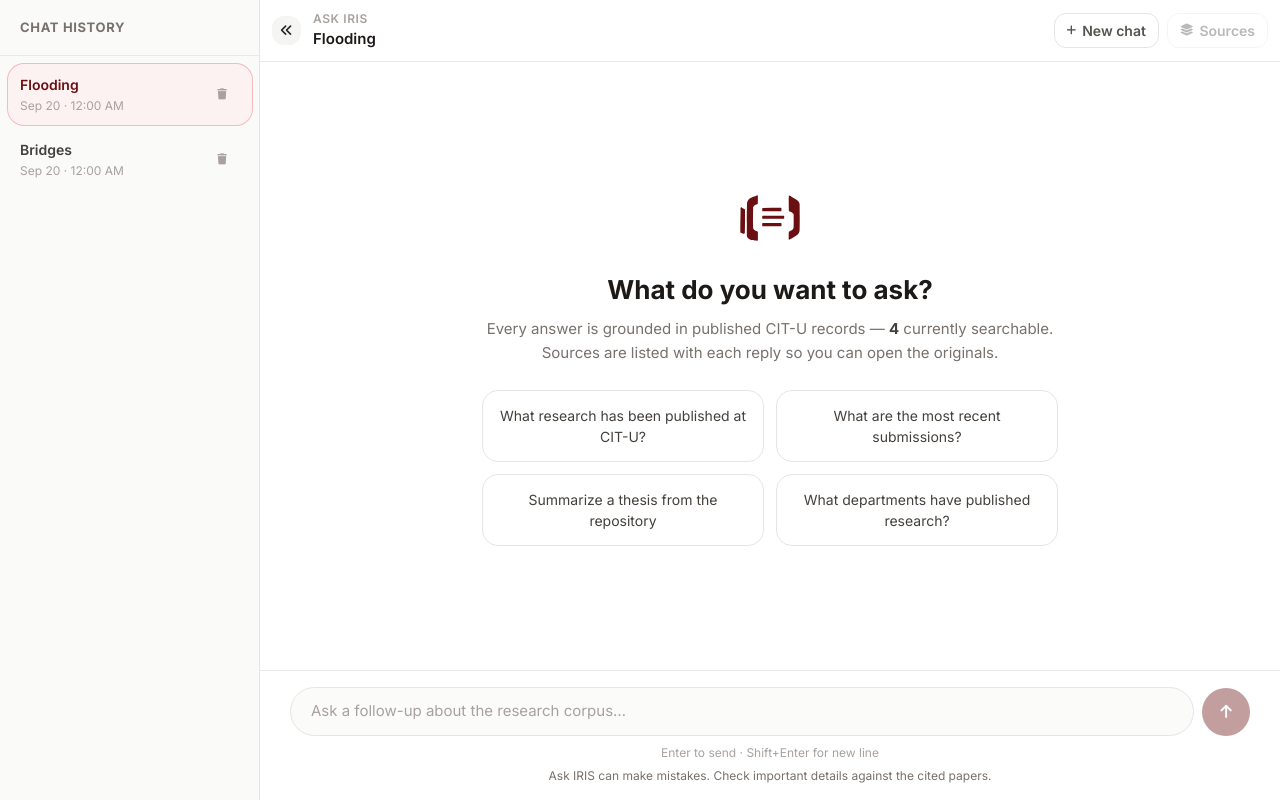
Test: each answer stays with the conversation that asked (IR-562) › shows the live line only in the conversation that is answering, and frees the others
Expected: the link "Bridges Sep 20 · 12:00 AM" is shown, [20,141,124,178]
In the text box labelled "Ask a follow-up about the research corpus…": (742, 711) [290,687,1194,736], type "What predicts flooding?"
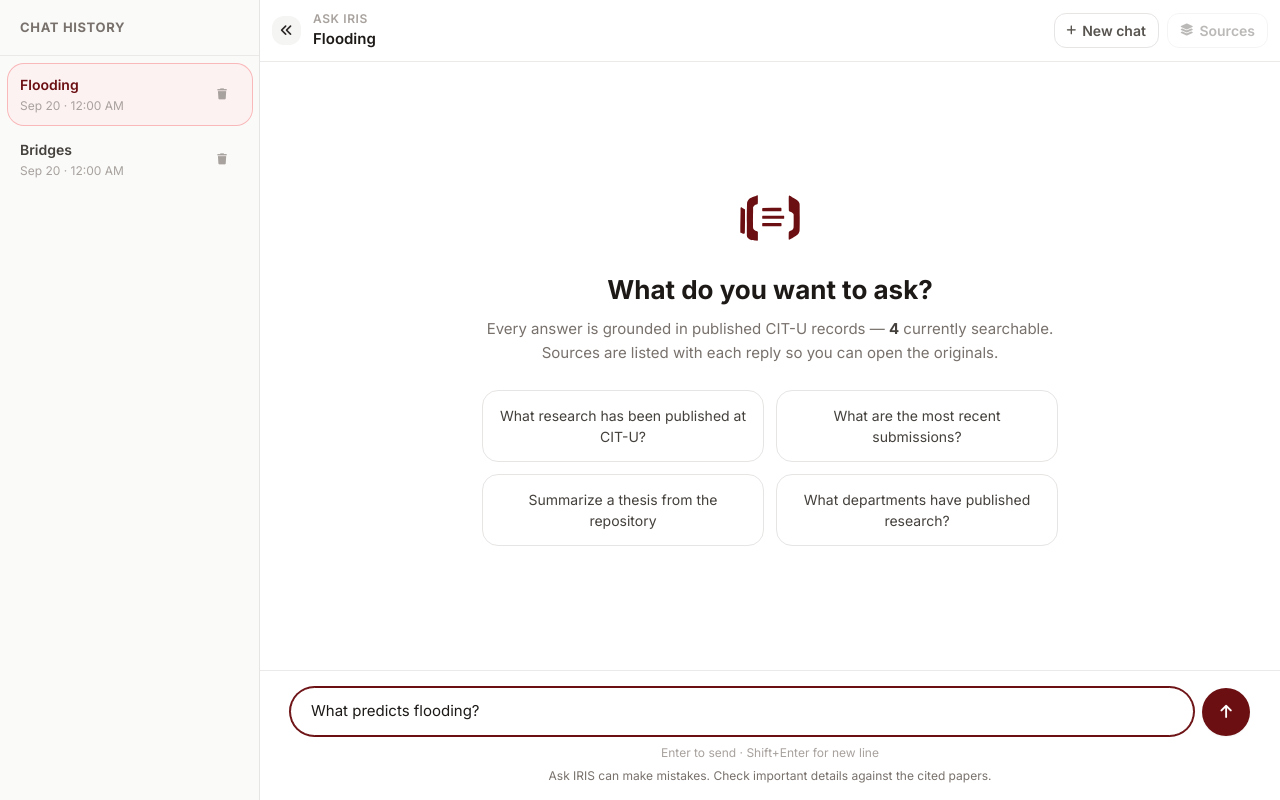
Click the button named "send message": (1226, 712) [1202,688,1250,736]
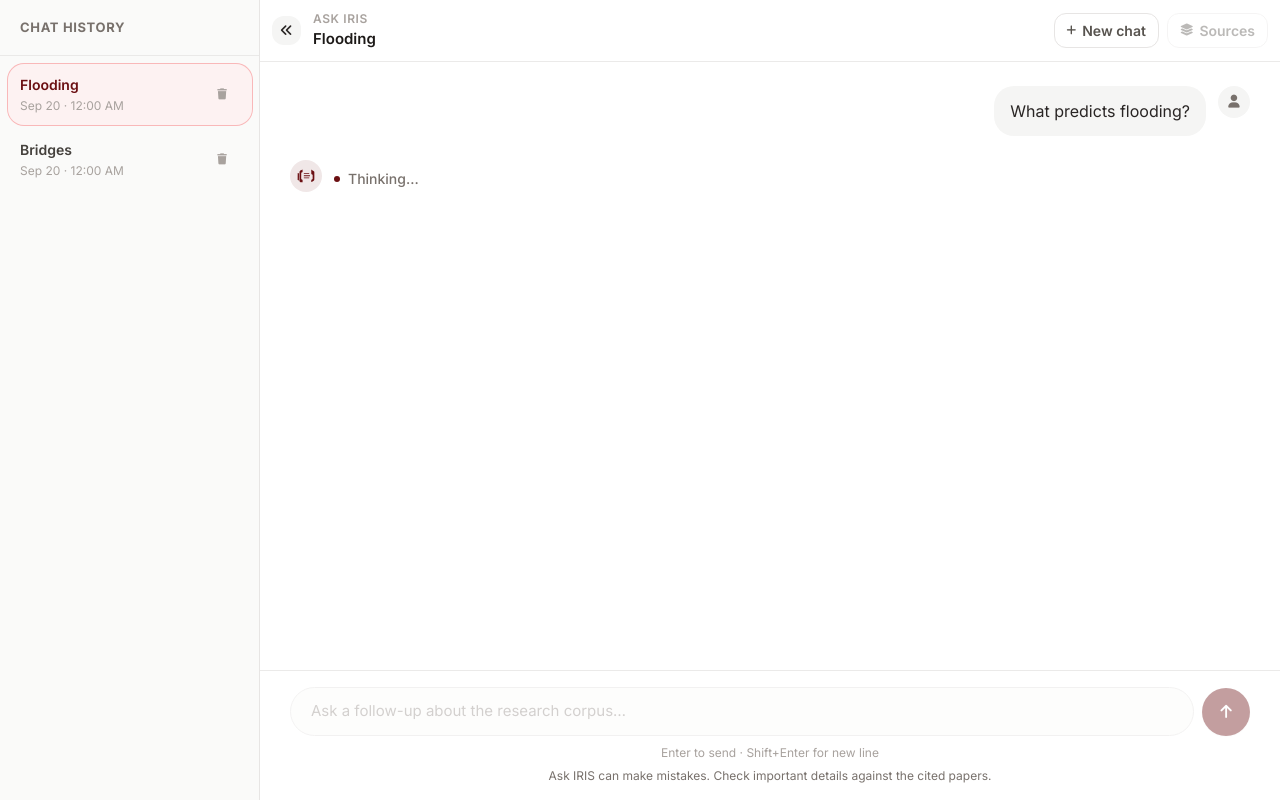
Expected: the text "Thinking…" is shown, [348,168,419,190]
Expected: the text box labelled "Ask a follow-up about the research corpus…" is disabled, [290,687,1194,736]
Click the link "Bridges Sep 20 · 12:00 AM": (72, 160) [20,141,124,178]
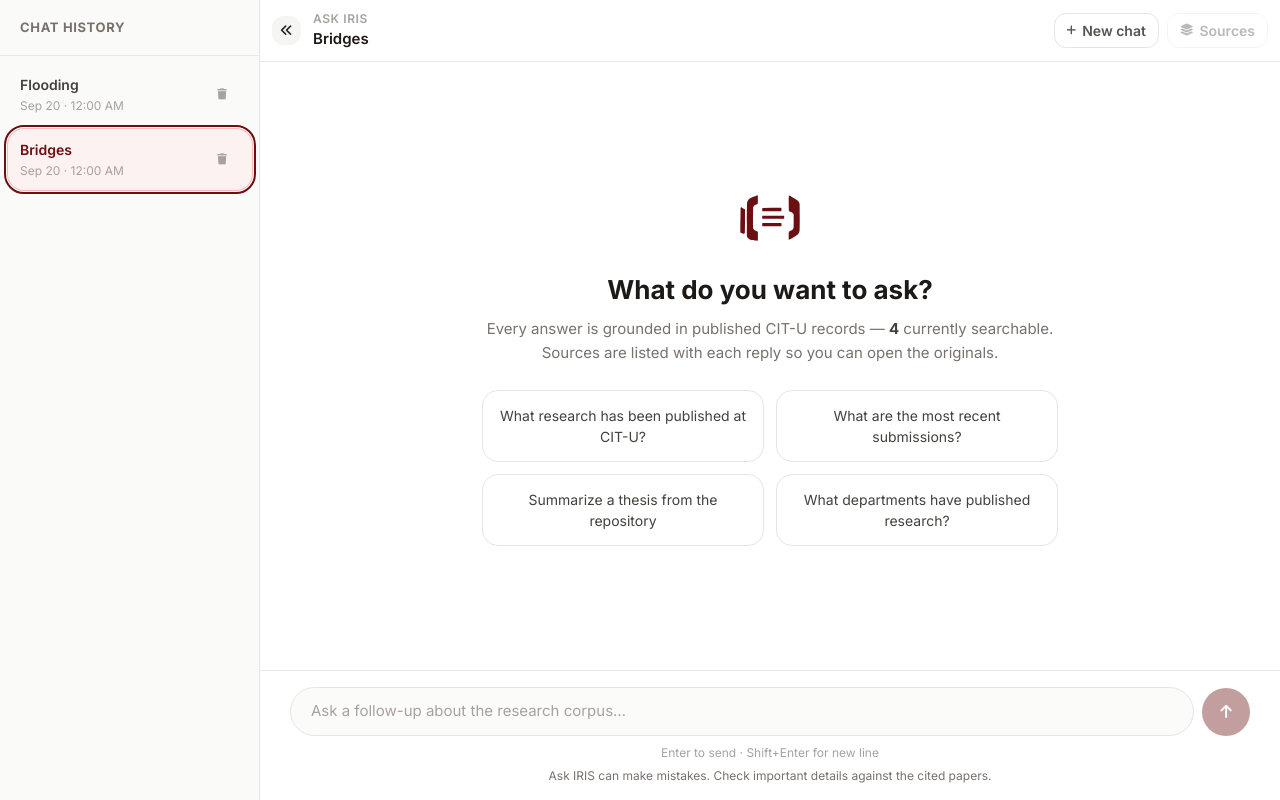
Expected: the text "Thinking…" is gone
Expected: the text box labelled "Ask a follow-up about the research corpus…" is enabled, [290,687,1194,736]
